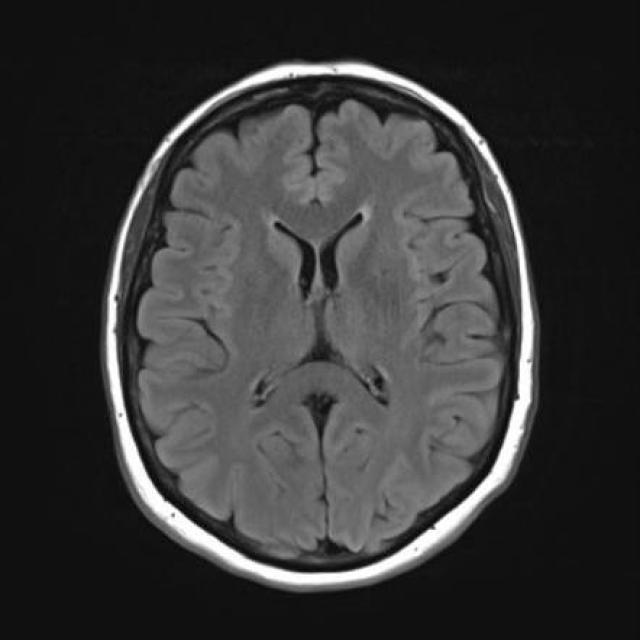notumor: (101, 62, 540, 597)
